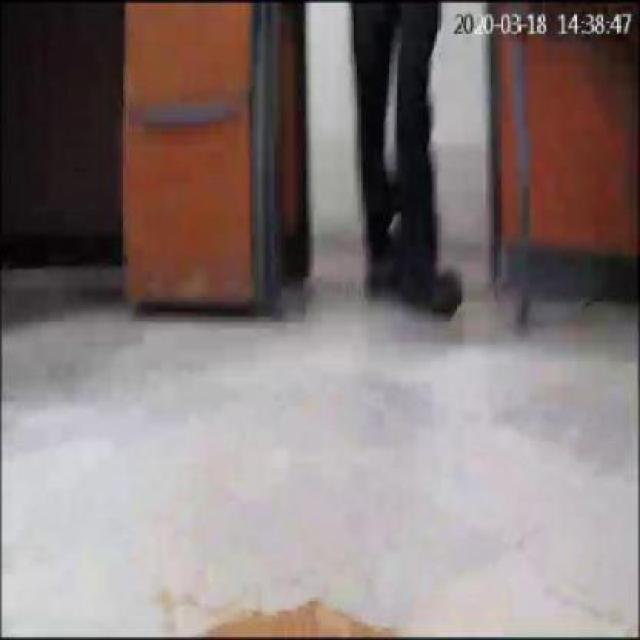spillage: (190, 601, 388, 640)
